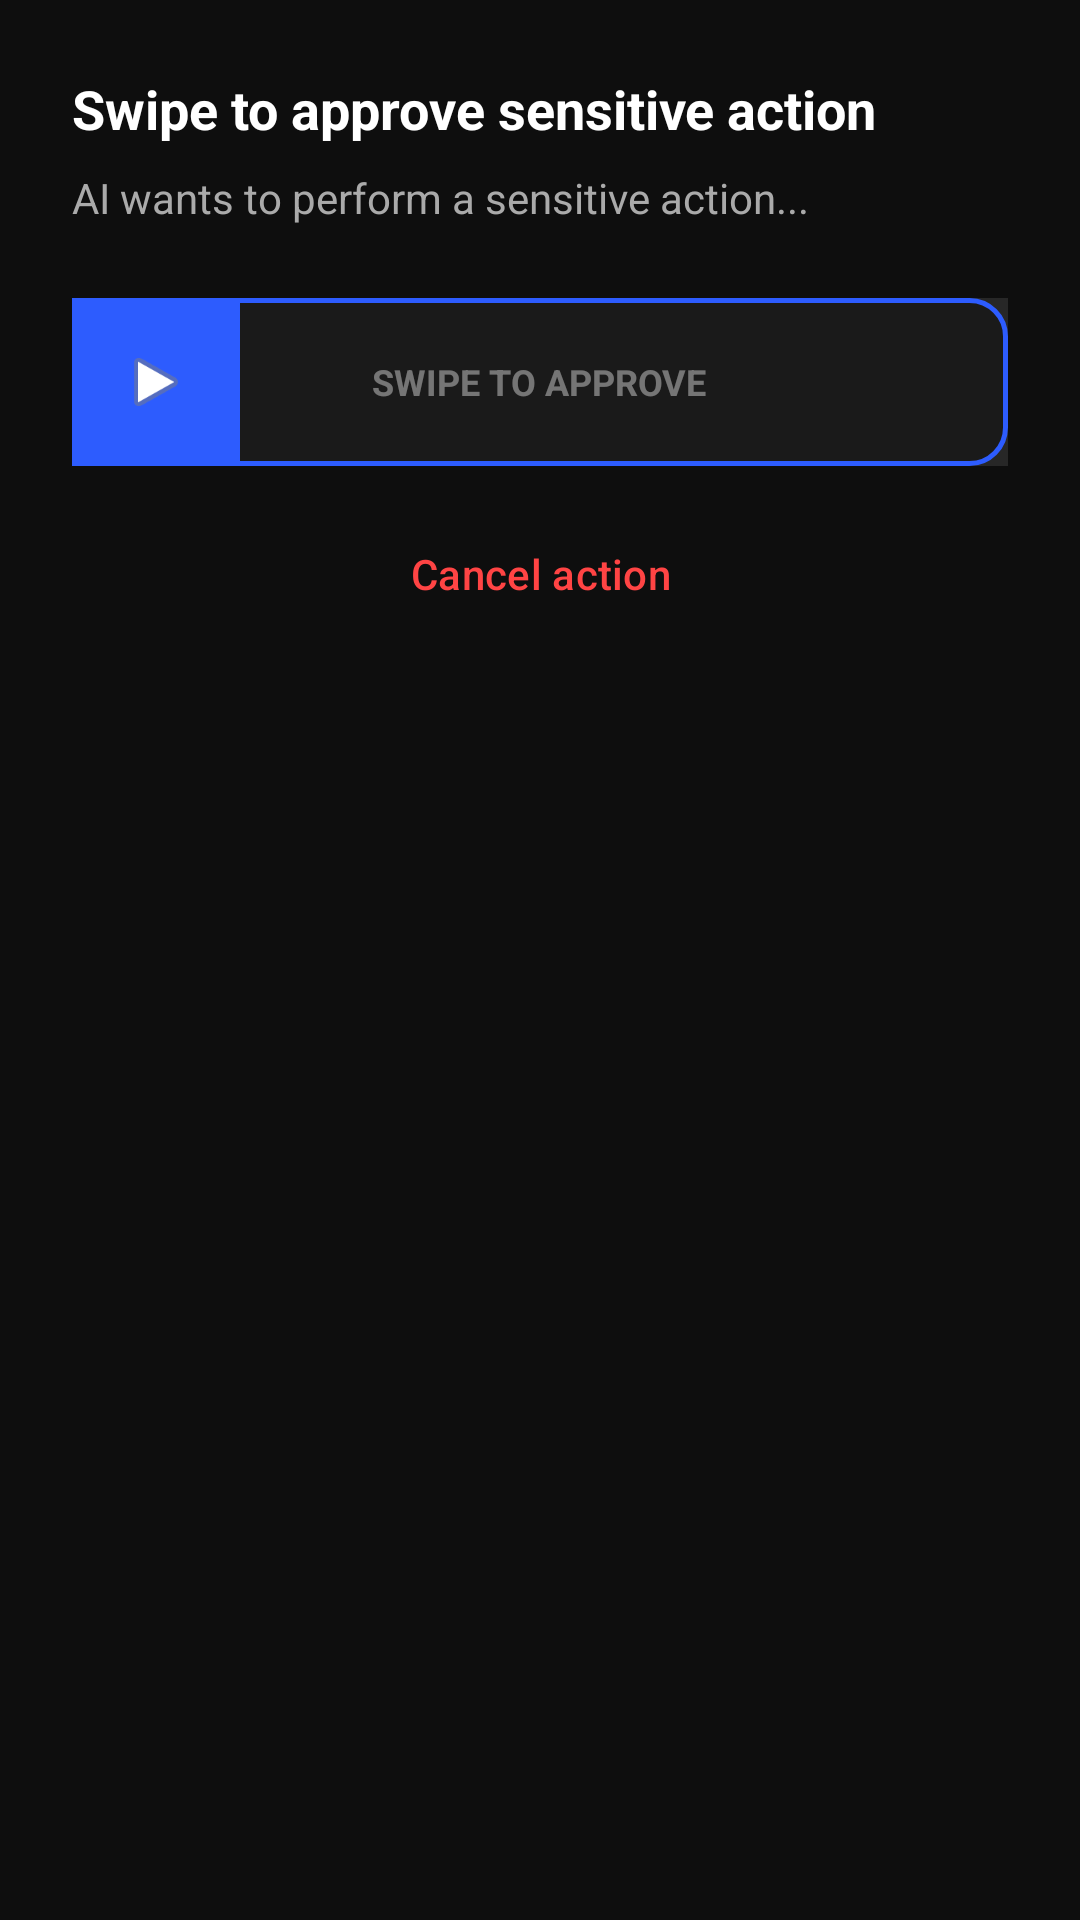

Icon click points for this 1080 × 1920 phone screenshot, format point (x, y):
play: point (156, 382)
